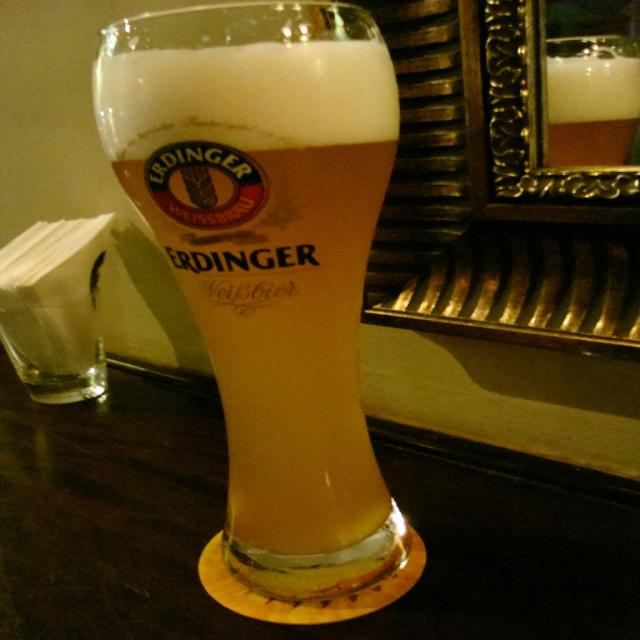erdinger: (114, 115, 335, 278)
